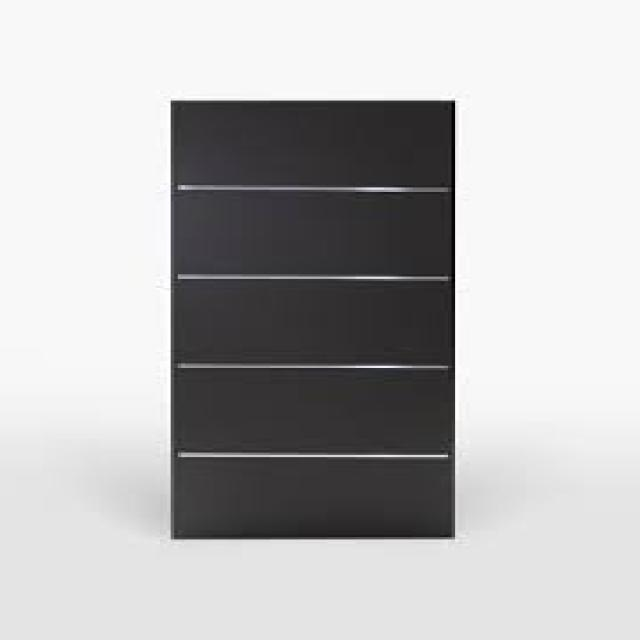door: (167, 100, 459, 540)
